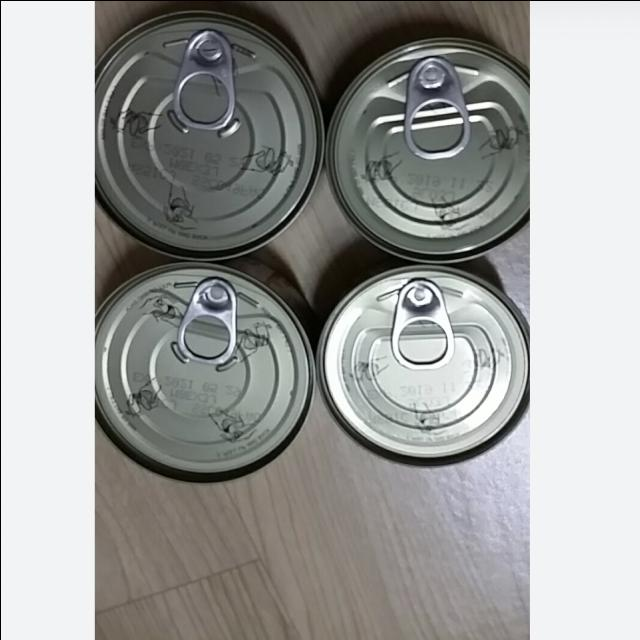can: (96, 3, 325, 255), (86, 253, 320, 497), (316, 248, 528, 496), (327, 23, 527, 272)
